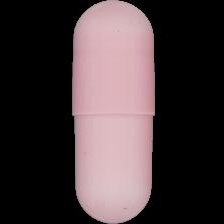0615-1339: (0, 0, 224, 224)
